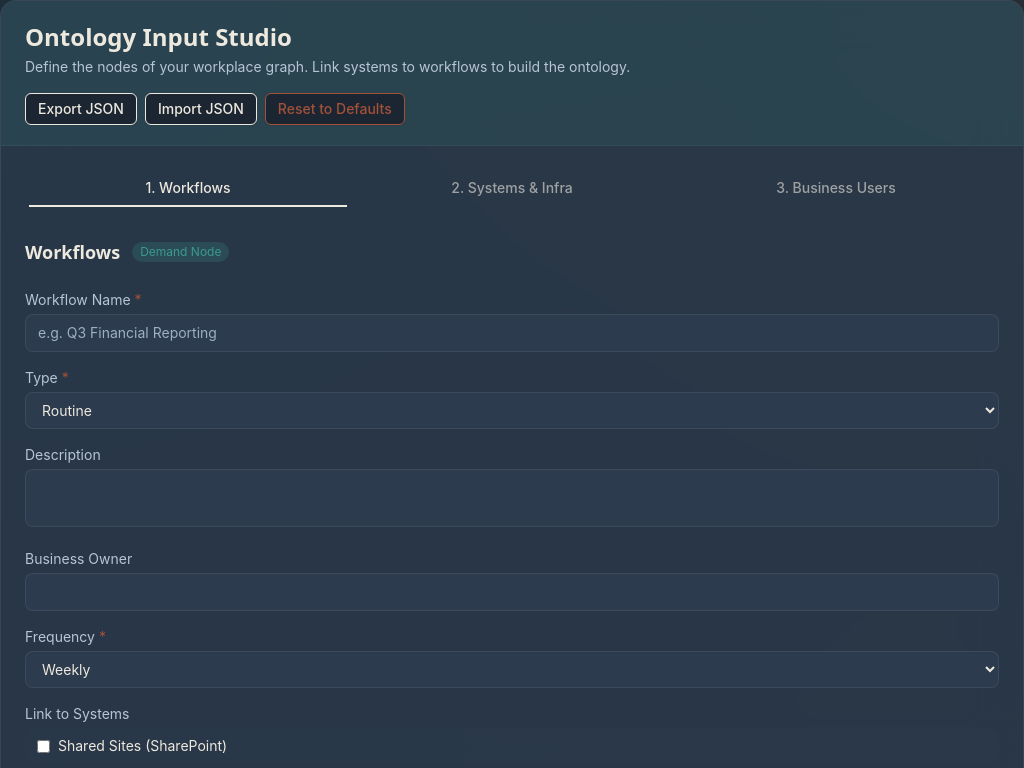
InputStudio integration › switches to system form on tab click
Click the tab "2. Systems & Infra".
click(512, 188)  # box [352,174,672,202]
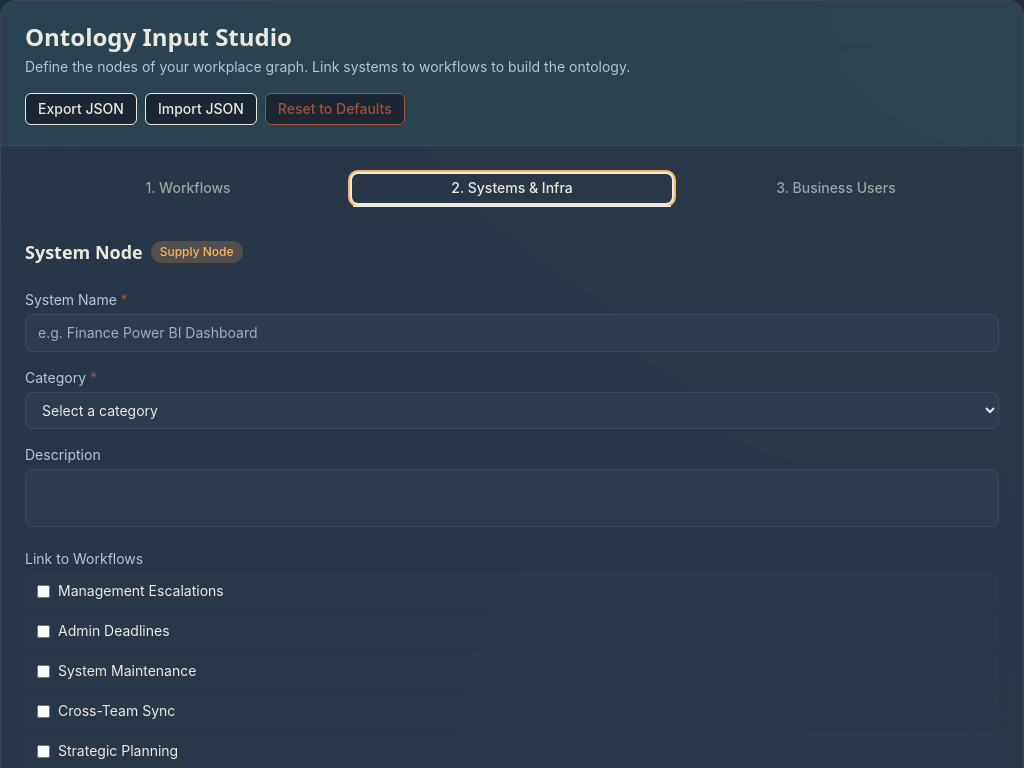
expect the field labelled "System Name *" is shown: met, box [25,314,999,352]
